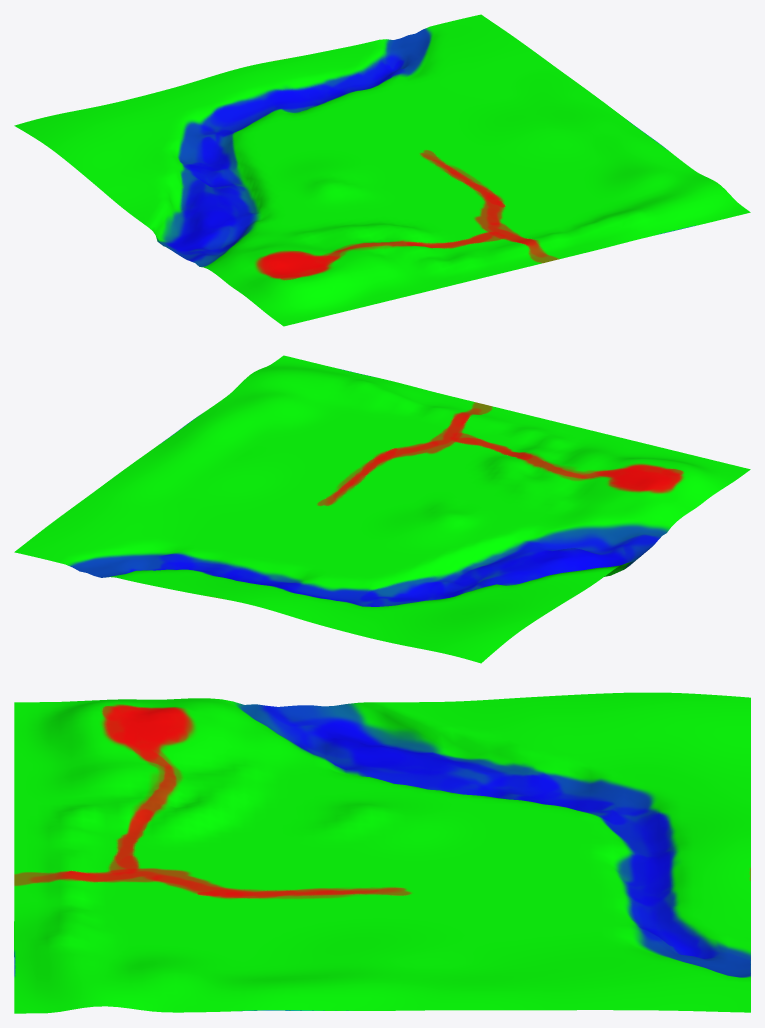
File: Ground.glb
3 renders of one model, top to bottom at view 1: azimuth 30°, elevation 25°; view 2: azimuth 150°, elevation 25°; view 3: azimuth 270°, elevation 25°, orthographic. The views are drawn at different scales.
Parts seen in each view (by area): view 1: Ground; view 2: Ground; view 3: Ground.
Part boxes in pixels (x1=…): Ground: x1=14, y1=14, x2=750, y2=326; Ground: x1=14, y1=355, x2=750, y2=663; Ground: x1=14, y1=692, x2=750, y2=1013.
Size of the model in its own units: 1042 by 63.31 by 1036.
Materials: 1 (1 with a texture image).
